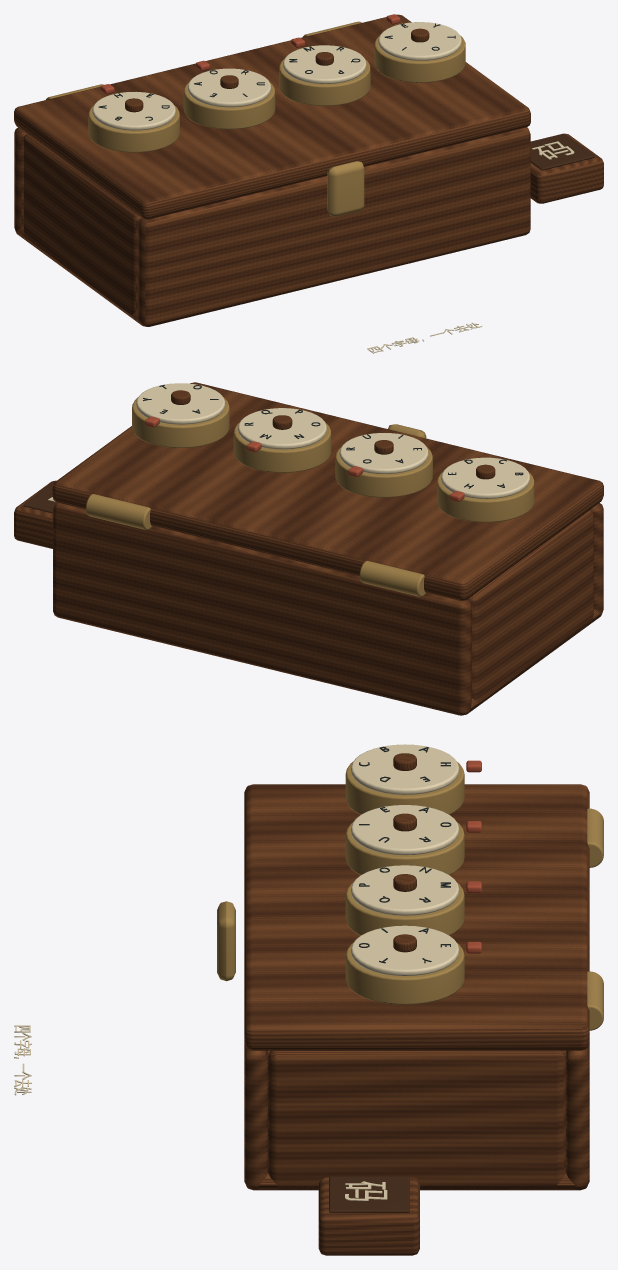
File: P05_WordBox.fbx
3 renders of one model, top to bottom at view 1: azimuth 30°, elevation 25°; view 2: azimuth 150°, elevation 25°; view 3: azimuth 270°, elevation 25°, orthographic. The views are drawn at different scales.
Visible parts, largest first — view 1: Word box_Front.001, WordBox_Lid_Panel.001, Word box_Side.002, Letter block 码.001, LetterWheel_1_Face.001, LetterWheel_3_Face.001, LetterWheel_0_Face.001, LetterWheel_2_Face.001, LetterWheel_1_Rim.001, LetterWheel_3_Rim.001, LetterWheel_0_Rim.001, LetterWheel_2_Rim.001 (+4 smaller); view 2: Word box_Back.001, WordBox_Lid_Panel.001, Word box_Side.002, LetterWheel_3_Face.001, LetterWheel_1_Face.001, LetterWheel_0_Face.001, LetterWheel_2_Face.001, LetterWheel_2_Rim.001, LetterWheel_0_Rim.001, LetterWheel_1_Rim.001, LetterWheel_3_Rim.001, Lid hinge.004 (+5 smaller); view 3: WordBox_Lid_Panel.001, Word box_Side.003, Letter block 码.001, LetterWheel_2_Face.001, LetterWheel_3_Face.001, LetterWheel_0_Face.001, LetterWheel_1_Face.001, LetterWheel_3_Rim.001, Word box_Back.001, Word box_Front.001, Letter inset 码.001, LetterWheel_0_Rim.001 (+6 smaller).
Part boxes in pixels (box(x1,y1,x2,y2)): Word box_Front.001: box(138, 127, 530, 326); WordBox_Lid_Panel.001: box(14, 14, 530, 219); Word box_Side.002: box(23, 134, 141, 318); Letter block 码.001: box(530, 133, 603, 203); LetterWheel_1_Face.001: box(187, 68, 270, 107); LetterWheel_3_Face.001: box(378, 22, 461, 60); LetterWheel_0_Face.001: box(92, 91, 175, 130); LetterWheel_2_Face.001: box(283, 45, 366, 83); LetterWheel_1_Rim.001: box(183, 81, 275, 129); LetterWheel_3_Rim.001: box(374, 35, 465, 82); LetterWheel_0_Rim.001: box(88, 105, 179, 152); LetterWheel_2_Rim.001: box(279, 58, 370, 105); Word box_Back.001: box(53, 502, 471, 715); WordBox_Lid_Panel.001: box(52, 382, 603, 600); Word box_Side.002: box(468, 510, 593, 704); LetterWheel_3_Face.001: box(136, 383, 225, 424); LetterWheel_1_Face.001: box(339, 433, 428, 474); LetterWheel_0_Face.001: box(441, 457, 529, 498); LetterWheel_2_Face.001: box(238, 408, 326, 449); LetterWheel_2_Rim.001: box(233, 422, 331, 472); LetterWheel_0_Rim.001: box(437, 471, 534, 522); LetterWheel_1_Rim.001: box(335, 446, 432, 497); LetterWheel_3_Rim.001: box(132, 397, 229, 447); Lid hinge.004: box(359, 560, 425, 596); WordBox_Lid_Panel.001: box(244, 784, 589, 1050); Word box_Side.003: box(268, 1050, 565, 1190); Letter block 码.001: box(318, 1177, 419, 1255); LetterWheel_2_Face.001: box(351, 865, 459, 915); LetterWheel_3_Face.001: box(351, 925, 459, 975); LetterWheel_0_Face.001: box(351, 744, 459, 794); LetterWheel_1_Face.001: box(351, 805, 459, 855); LetterWheel_3_Rim.001: box(345, 943, 464, 1004); Word box_Back.001: box(566, 1043, 589, 1190); Word box_Front.001: box(244, 1043, 267, 1190); Letter inset 码.001: box(329, 1176, 409, 1212); LetterWheel_0_Rim.001: box(345, 761, 464, 814).
Size of the model in its own units: 0.6175 by 0.2065 by 0.4954.
6 materials, 1 textured.
